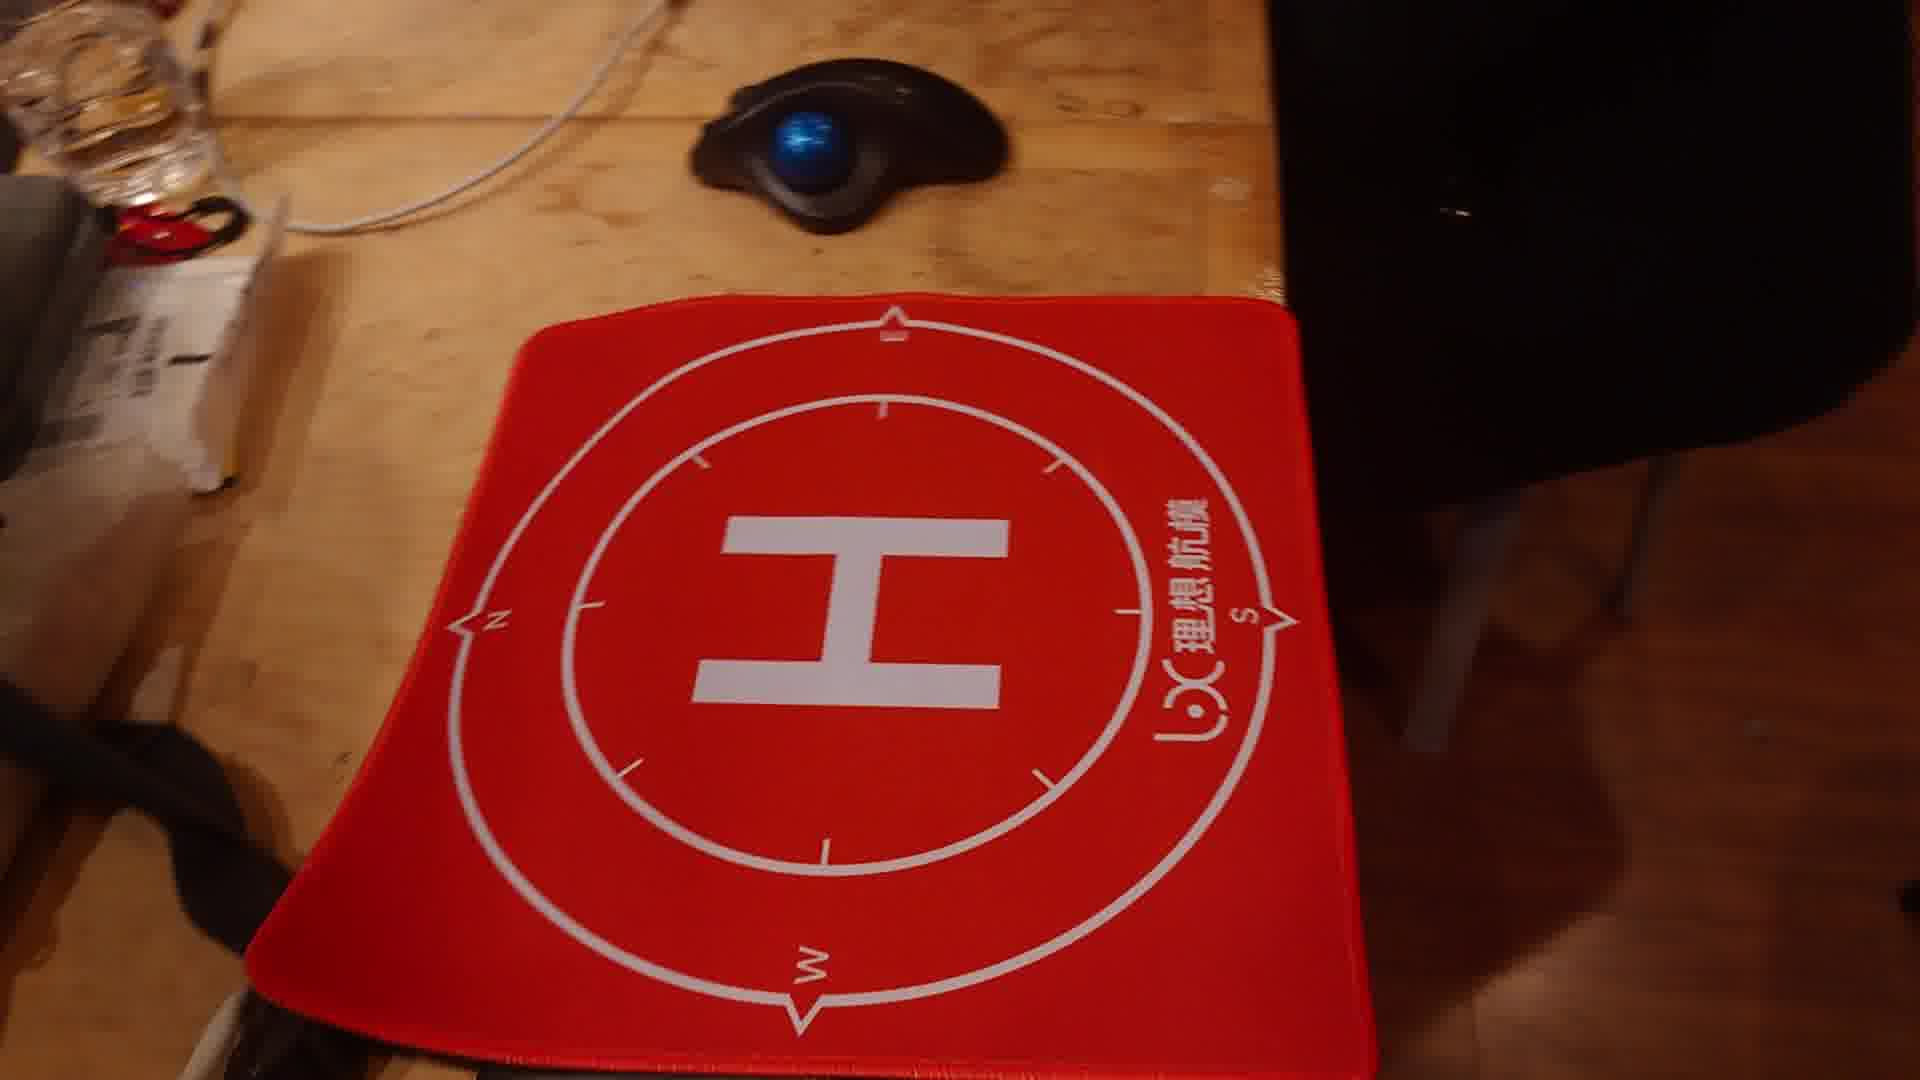H: (694, 514, 1011, 711)
